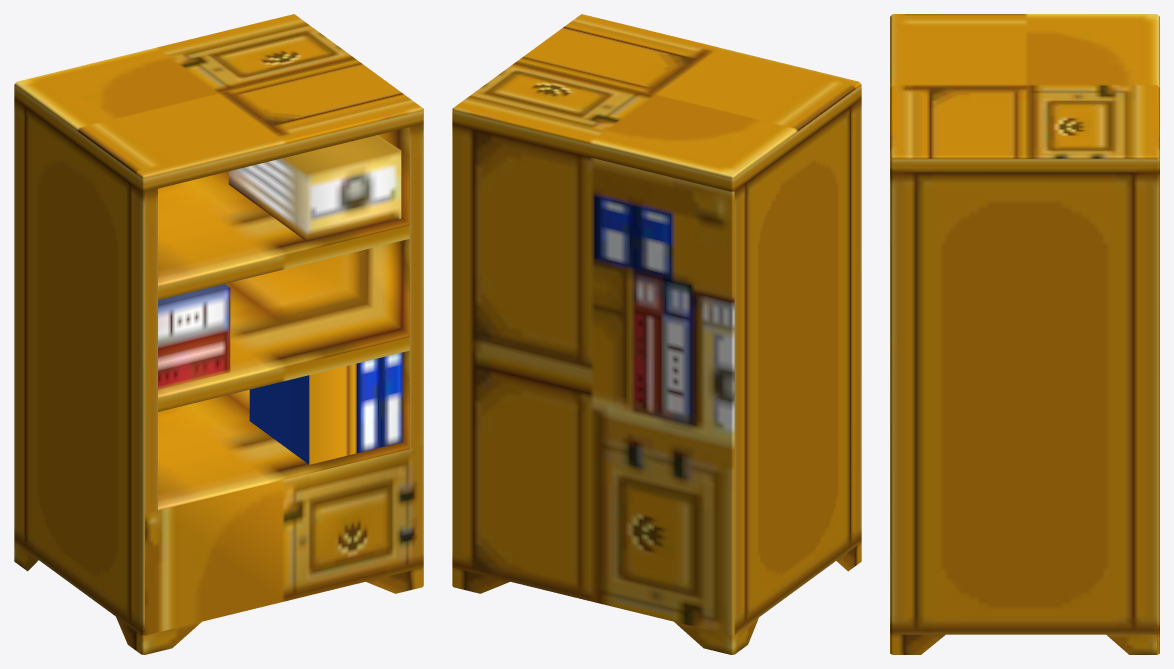
Rendered from rmk_cnt_bookshelf.dae.
The picture shows the model from 3 angles, left to right: view 1: azimuth 30°, elevation 25°; view 2: azimuth 150°, elevation 25°; view 3: azimuth 270°, elevation 25°; orthographic projection. The views are drawn at different scales.
Parts seen in each view (by area): view 1: rmk_cnt_bookshelf; view 2: rmk_cnt_bookshelf; view 3: rmk_cnt_bookshelf.
Boxes of the visible parts, x1=… form: rmk_cnt_bookshelf: x1=14, y1=14, x2=423, y2=654; rmk_cnt_bookshelf: x1=452, y1=14, x2=861, y2=654; rmk_cnt_bookshelf: x1=890, y1=14, x2=1159, y2=654.
Bounding box in the file's own units: 29.6 × 48.02 × 23.54.
1 material, 1 textured.
